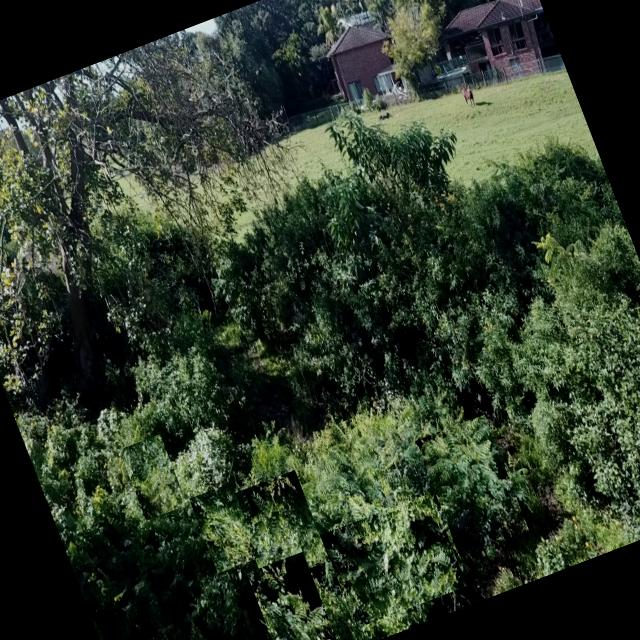Mysore-Thorn-Weed: (321, 492, 467, 628), (416, 414, 530, 556), (230, 470, 330, 585), (246, 551, 342, 640), (320, 418, 390, 520), (189, 482, 260, 574), (119, 434, 188, 520), (362, 416, 442, 486)
